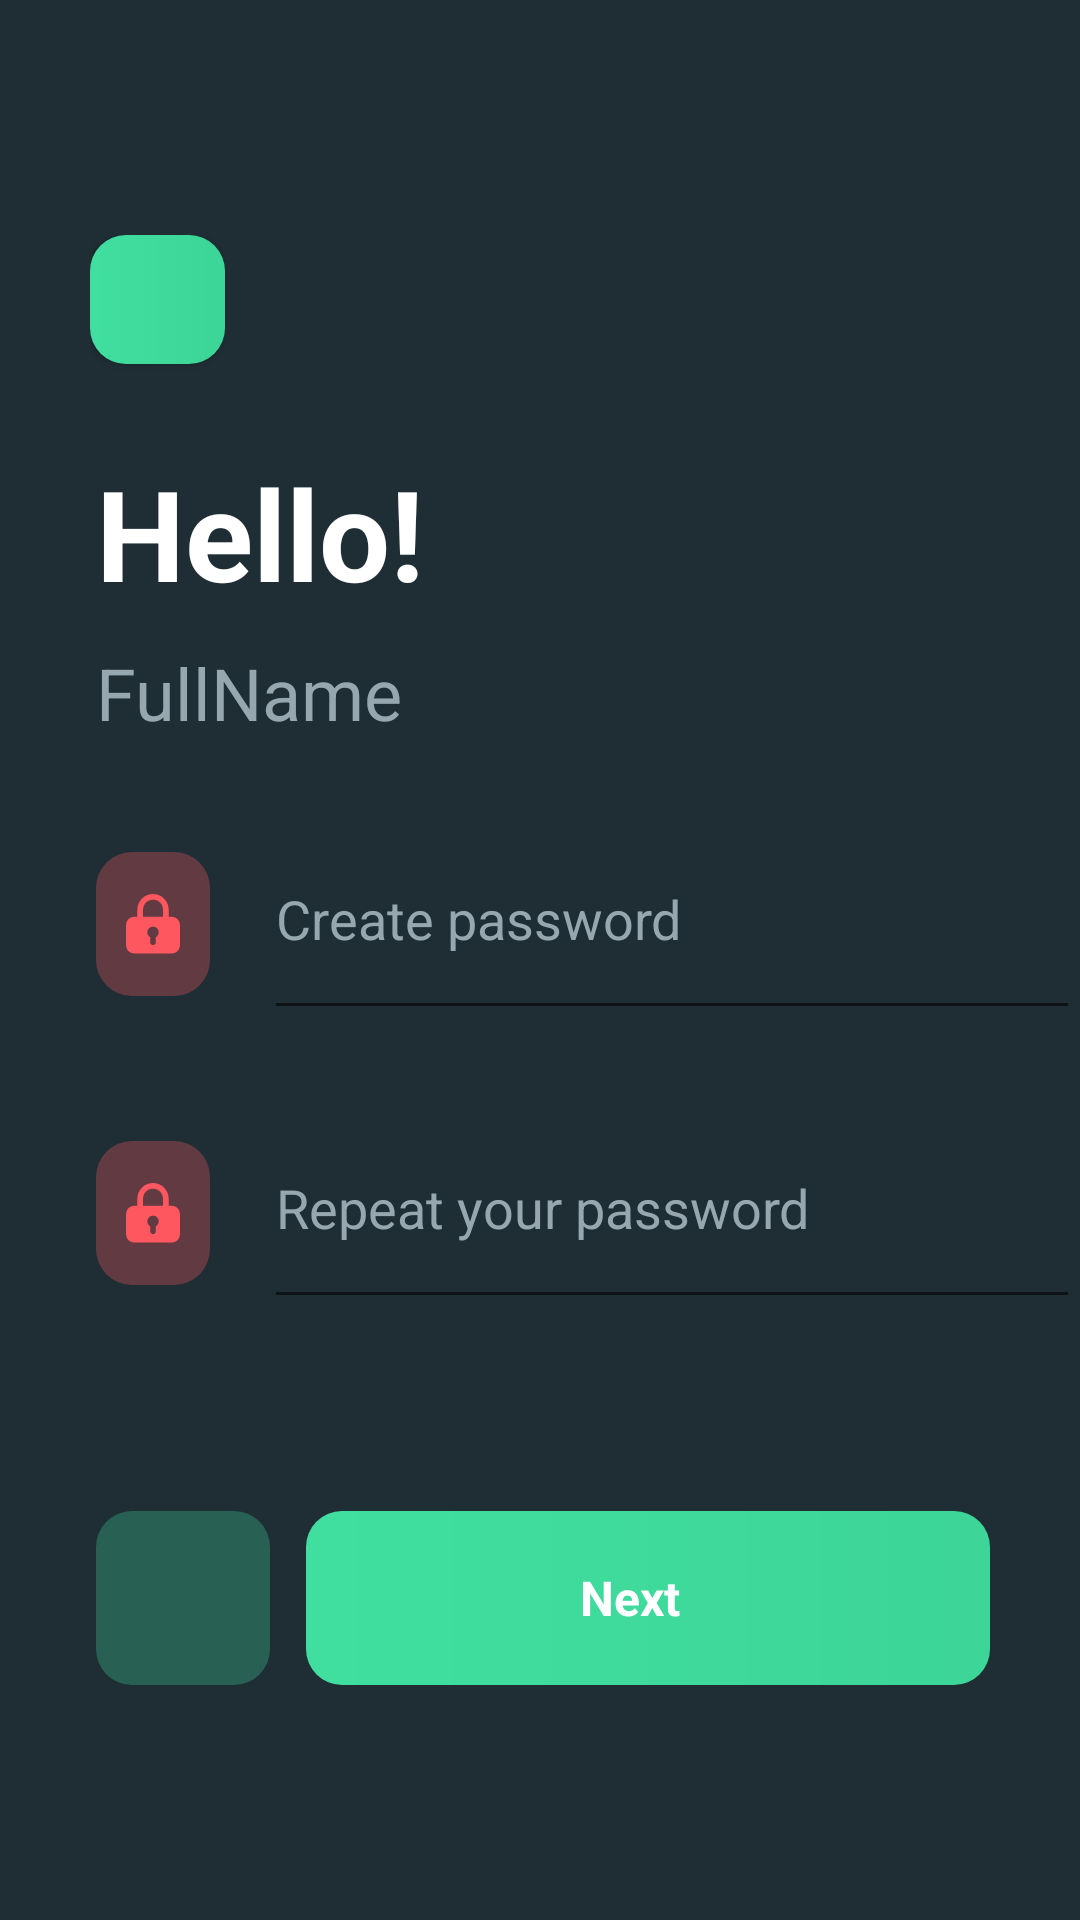

Screen size 1080 × 1920. Icon name, then its center in pixels as (x=x, y=y):
Lock: (x=153, y=924), (x=153, y=1213)
